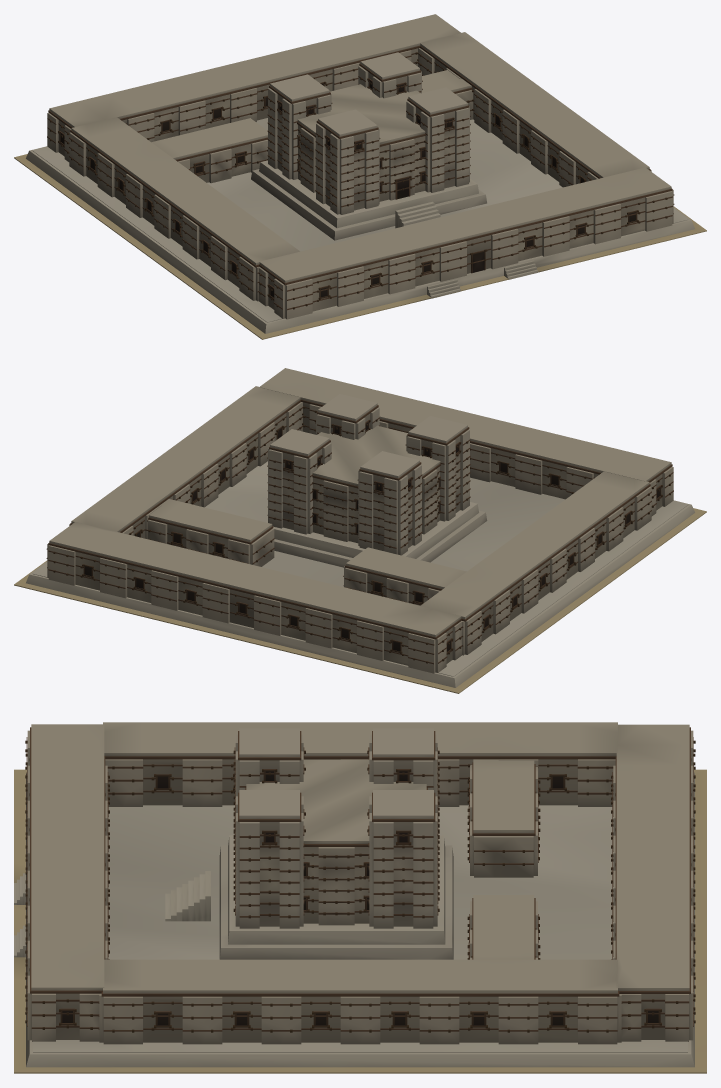
Rendered from dungur.glb.
3 renders of one model, top to bottom at view 1: azimuth 30°, elevation 25°; view 2: azimuth 150°, elevation 25°; view 3: azimuth 270°, elevation 25°, orthographic. The views are drawn at different scales.
Visible parts, largest first — view 1: p1_ranges, p2_pavilion, p0_platform; view 2: p1_ranges, p2_pavilion, p0_platform; view 3: p1_ranges, p0_platform, p2_pavilion.
Boxes of the visible parts, x1,y1,x2,y2 form: p1_ranges: [47, 14, 674, 319]; p2_pavilion: [251, 52, 486, 240]; p0_platform: [14, 118, 706, 339]; p1_ranges: [46, 368, 673, 673]; p2_pavilion: [265, 394, 487, 567]; p0_platform: [14, 461, 706, 693]; p1_ranges: [25, 722, 695, 1044]; p0_platform: [14, 769, 706, 1073]; p2_pavilion: [165, 728, 453, 959].
Bounding box in the file's own units: 60 × 13.89 × 58.
